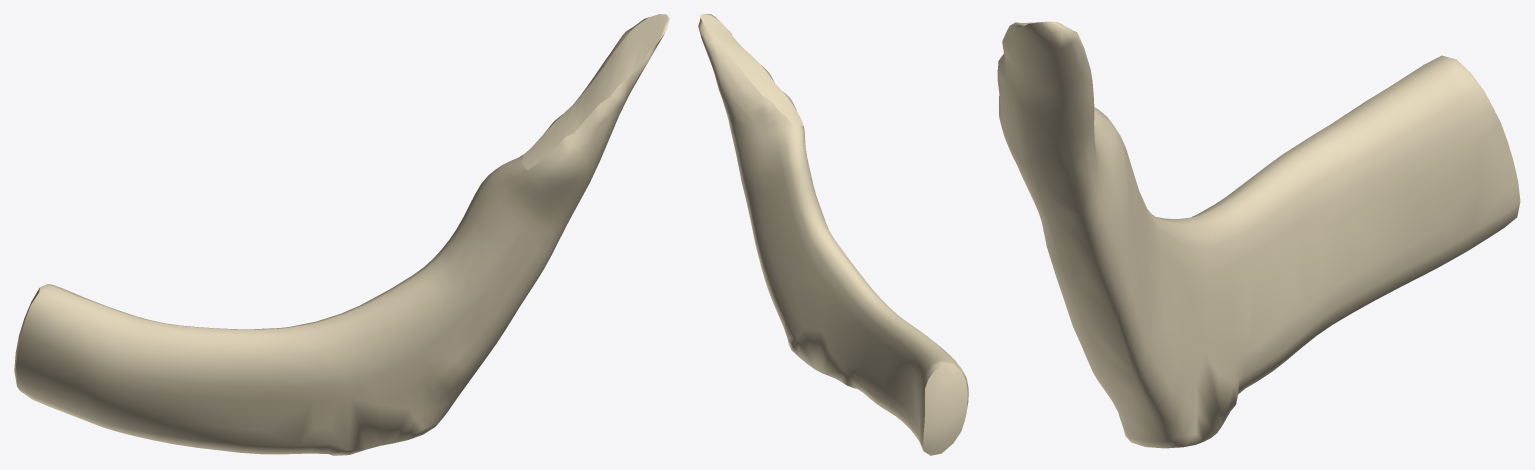
The model's file is esqueleto-costal-cartilage-of-eighth-rib-r.glb.
The picture shows the model from 3 angles, left to right: view 1: azimuth 30°, elevation 25°; view 2: azimuth 150°, elevation 25°; view 3: azimuth 270°, elevation 25°; orthographic projection. The views are drawn at different scales.
Visible parts, largest first — view 1: Costal cartilage of eighth rib.r; view 2: Costal cartilage of eighth rib.r; view 3: Costal cartilage of eighth rib.r.
Boxes of the visible parts, x1,y1,x2,y2 form: Costal cartilage of eighth rib.r: (14, 14, 669, 455); Costal cartilage of eighth rib.r: (698, 14, 968, 455); Costal cartilage of eighth rib.r: (997, 21, 1520, 448).
Bounding box in the file's own units: 0.0815 × 0.0623 × 0.0502.
